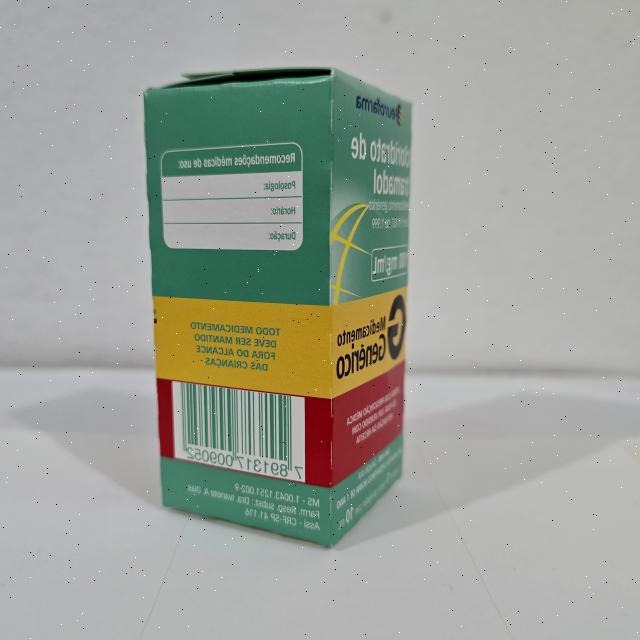tramadol: (138, 60, 418, 553)
